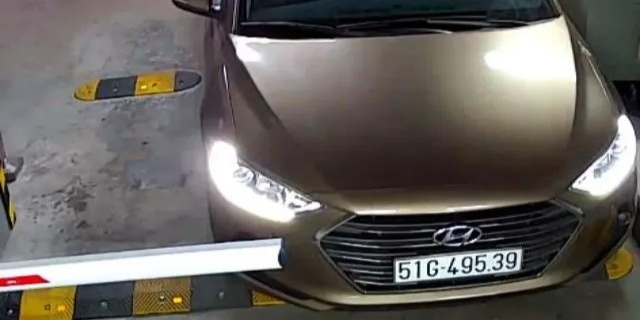bien_so: (396, 251, 521, 280)
